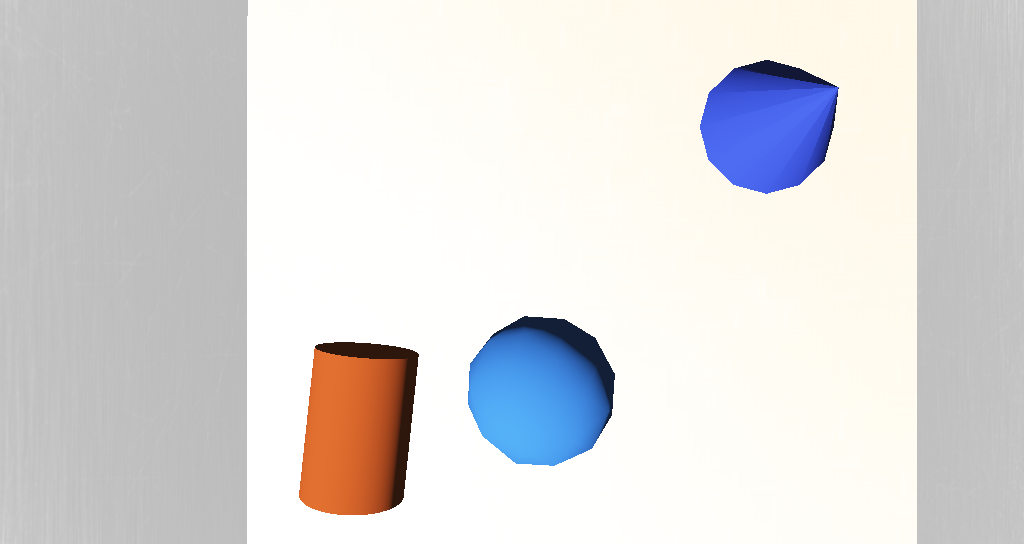cone: (381, 291, 441, 339)
cylinder: (559, 198, 627, 241)
sphere: (451, 284, 519, 327)
